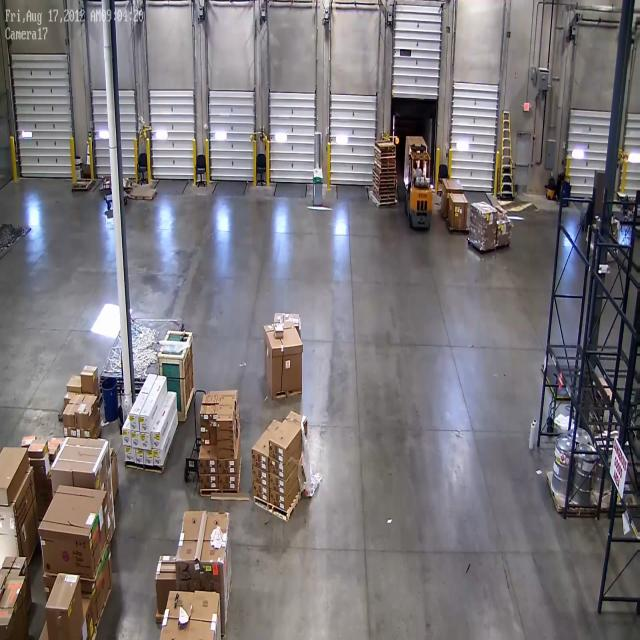human: (413, 161, 425, 183)
product 1: (53, 432, 121, 536), (46, 483, 104, 572), (179, 504, 228, 588), (263, 323, 302, 399), (0, 492, 40, 562), (164, 594, 218, 640), (92, 550, 117, 603), (448, 190, 469, 242), (471, 198, 497, 229), (440, 178, 461, 212), (273, 309, 304, 328), (470, 227, 494, 250), (494, 218, 512, 244)
product 2: (273, 325, 285, 337)
product 3: (140, 432, 150, 452), (151, 432, 160, 450), (123, 426, 131, 445), (130, 413, 139, 429), (140, 416, 148, 432), (132, 432, 140, 448), (126, 446, 134, 462), (135, 450, 144, 464), (144, 451, 152, 464), (154, 451, 160, 466)
product 4: (35, 477, 51, 513), (80, 364, 98, 395), (250, 444, 268, 471), (270, 472, 288, 496), (267, 439, 286, 461), (32, 453, 50, 475), (26, 438, 44, 459), (271, 488, 287, 511), (198, 454, 216, 473), (217, 407, 233, 428), (253, 481, 268, 503), (269, 457, 286, 476), (218, 473, 236, 490), (254, 467, 267, 488), (67, 374, 83, 391), (76, 404, 88, 426), (62, 406, 76, 424), (19, 434, 38, 447), (222, 394, 236, 411), (218, 459, 237, 471), (200, 476, 218, 488), (83, 393, 97, 408), (199, 405, 210, 422), (217, 429, 235, 439), (49, 441, 59, 459), (496, 202, 509, 215), (64, 425, 77, 437), (218, 440, 235, 449), (218, 449, 234, 458), (77, 427, 91, 436), (210, 421, 218, 435), (200, 432, 208, 446), (72, 394, 83, 404), (202, 393, 211, 404), (210, 407, 217, 420), (211, 394, 220, 404), (200, 423, 209, 433), (64, 392, 74, 401), (210, 435, 217, 444)
product 5: (48, 575, 80, 640), (0, 444, 31, 499), (158, 551, 180, 599), (2, 556, 33, 589), (4, 590, 34, 614), (0, 608, 16, 640), (84, 599, 96, 639), (0, 562, 6, 601)
